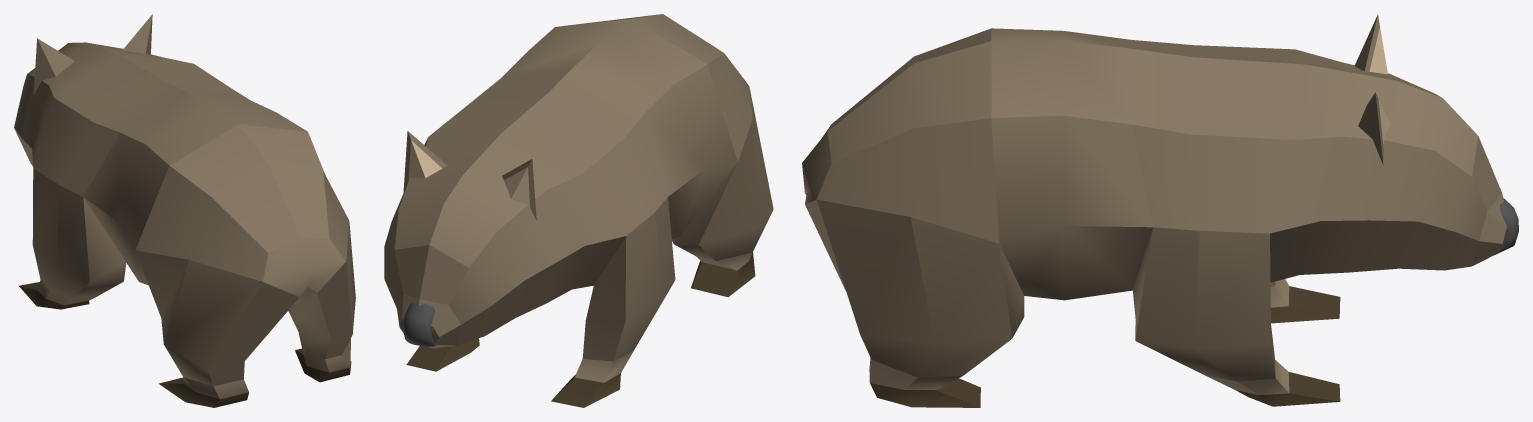
File: Wombat.fbx
3 views of the same model, side by side, from view 1: azimuth 30°, elevation 25°; view 2: azimuth 150°, elevation 25°; view 3: azimuth 270°, elevation 25° (orthographic). The views are drawn at different scales.
Parts seen in each view (by area): view 1: Ear2; view 2: Ear2; view 3: Ear2.
Boxes of the visible parts, left/top/right/bottom form: Ear2: left=14, top=14, right=355, bottom=407; Ear2: left=384, top=14, right=773, bottom=407; Ear2: left=802, top=14, right=1518, bottom=407.
Bounding box in the file's own units: 5.99 × 6.33 × 13.04.
